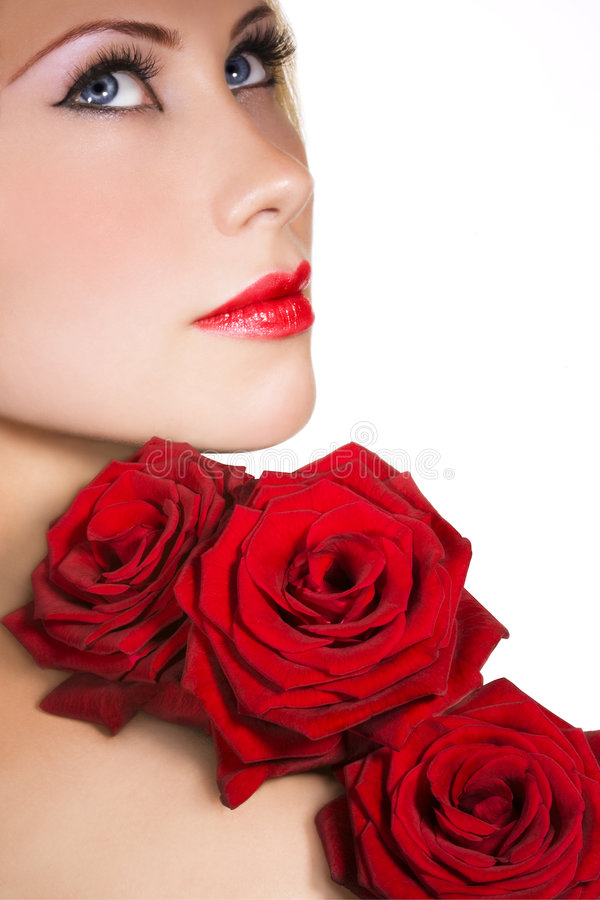RedRose: (184, 432, 518, 807), (5, 424, 238, 737), (294, 671, 600, 898)
